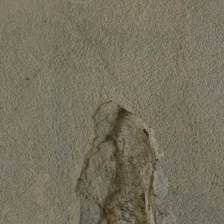Crack: (74, 96, 172, 221)
